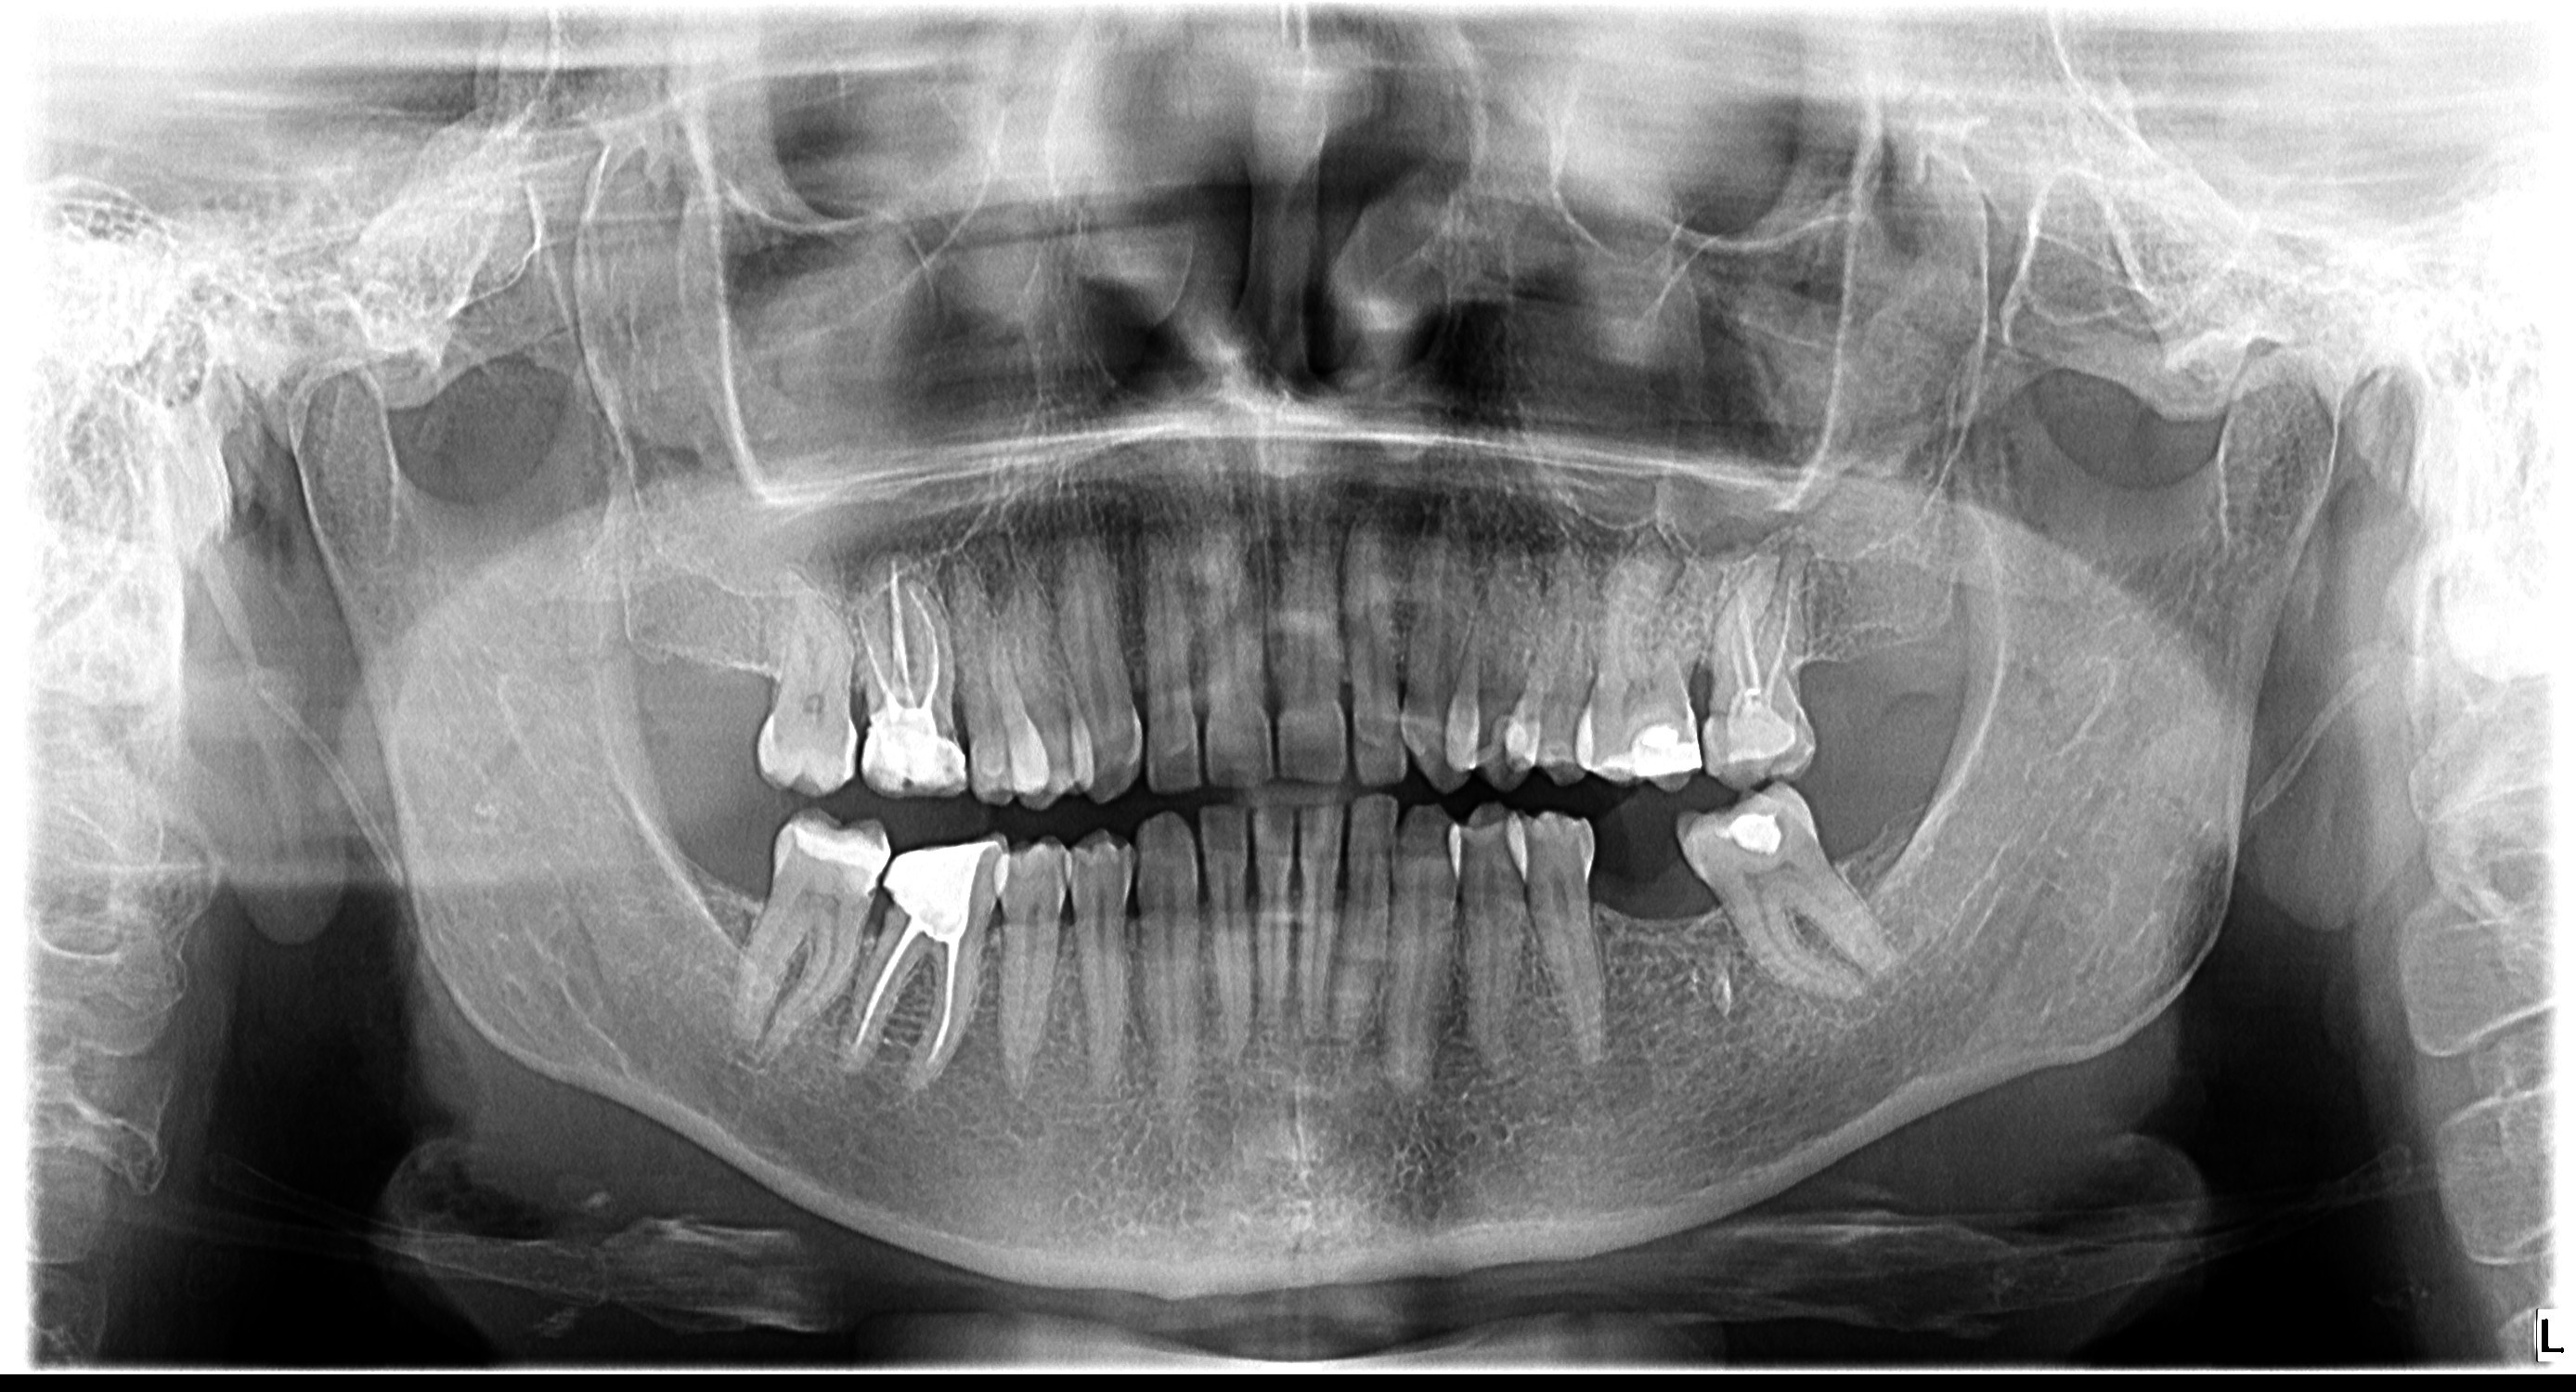API: (1800, 969, 1893, 1044)
CAR: (870, 871, 927, 922), (856, 864, 887, 912)
END: (834, 936, 975, 1092), (841, 557, 959, 722), (1711, 549, 1819, 701)
OBT: (885, 825, 1002, 943), (853, 703, 975, 806), (1687, 701, 1819, 790), (1593, 708, 1708, 789), (1721, 802, 1802, 862)
